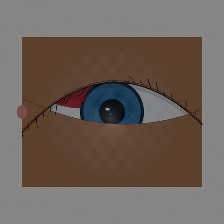hemorrhage_spot: (37, 61, 128, 134)
